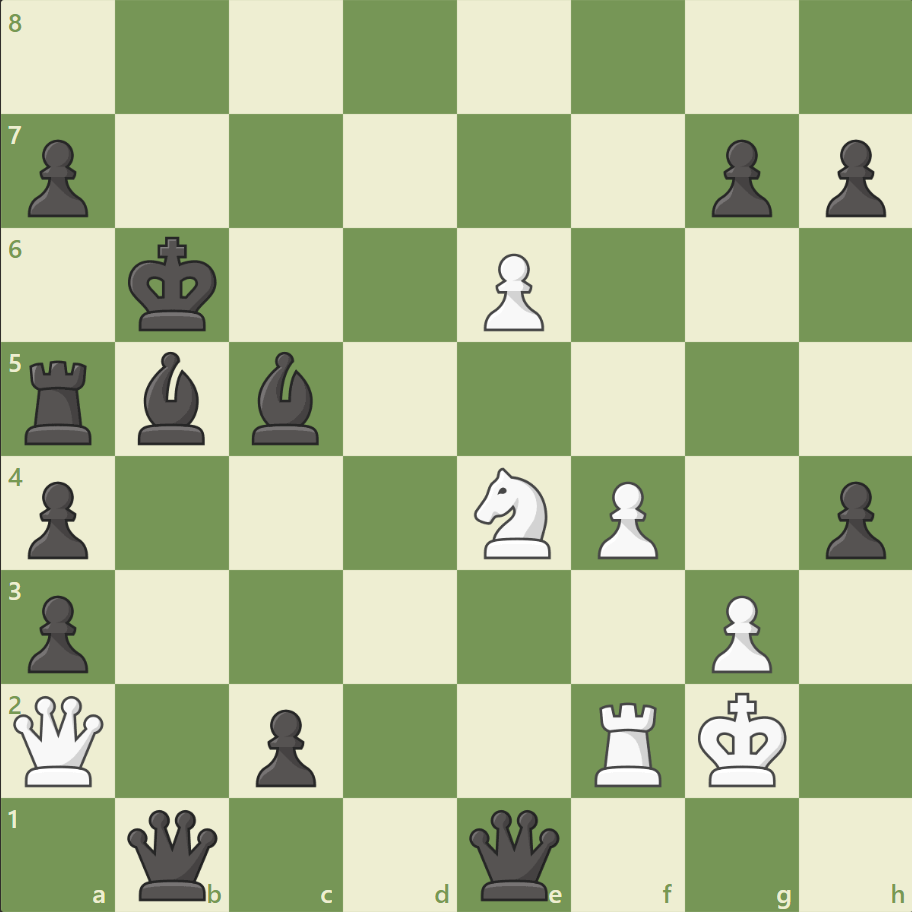K: (692, 685, 792, 793)
N: (465, 461, 562, 564)
P: (474, 246, 549, 337), (701, 586, 776, 677), (588, 473, 662, 564)
Q: (10, 690, 109, 789)
R: (587, 693, 670, 790)
b: (131, 347, 215, 449), (244, 347, 328, 449)
k: (124, 231, 224, 339)
p: (20, 132, 95, 223), (701, 132, 776, 223), (20, 473, 95, 564), (20, 586, 95, 677), (247, 700, 322, 791), (815, 132, 889, 223), (815, 473, 889, 564)
q: (124, 804, 223, 903), (464, 804, 563, 903)
r: (19, 352, 102, 449)
